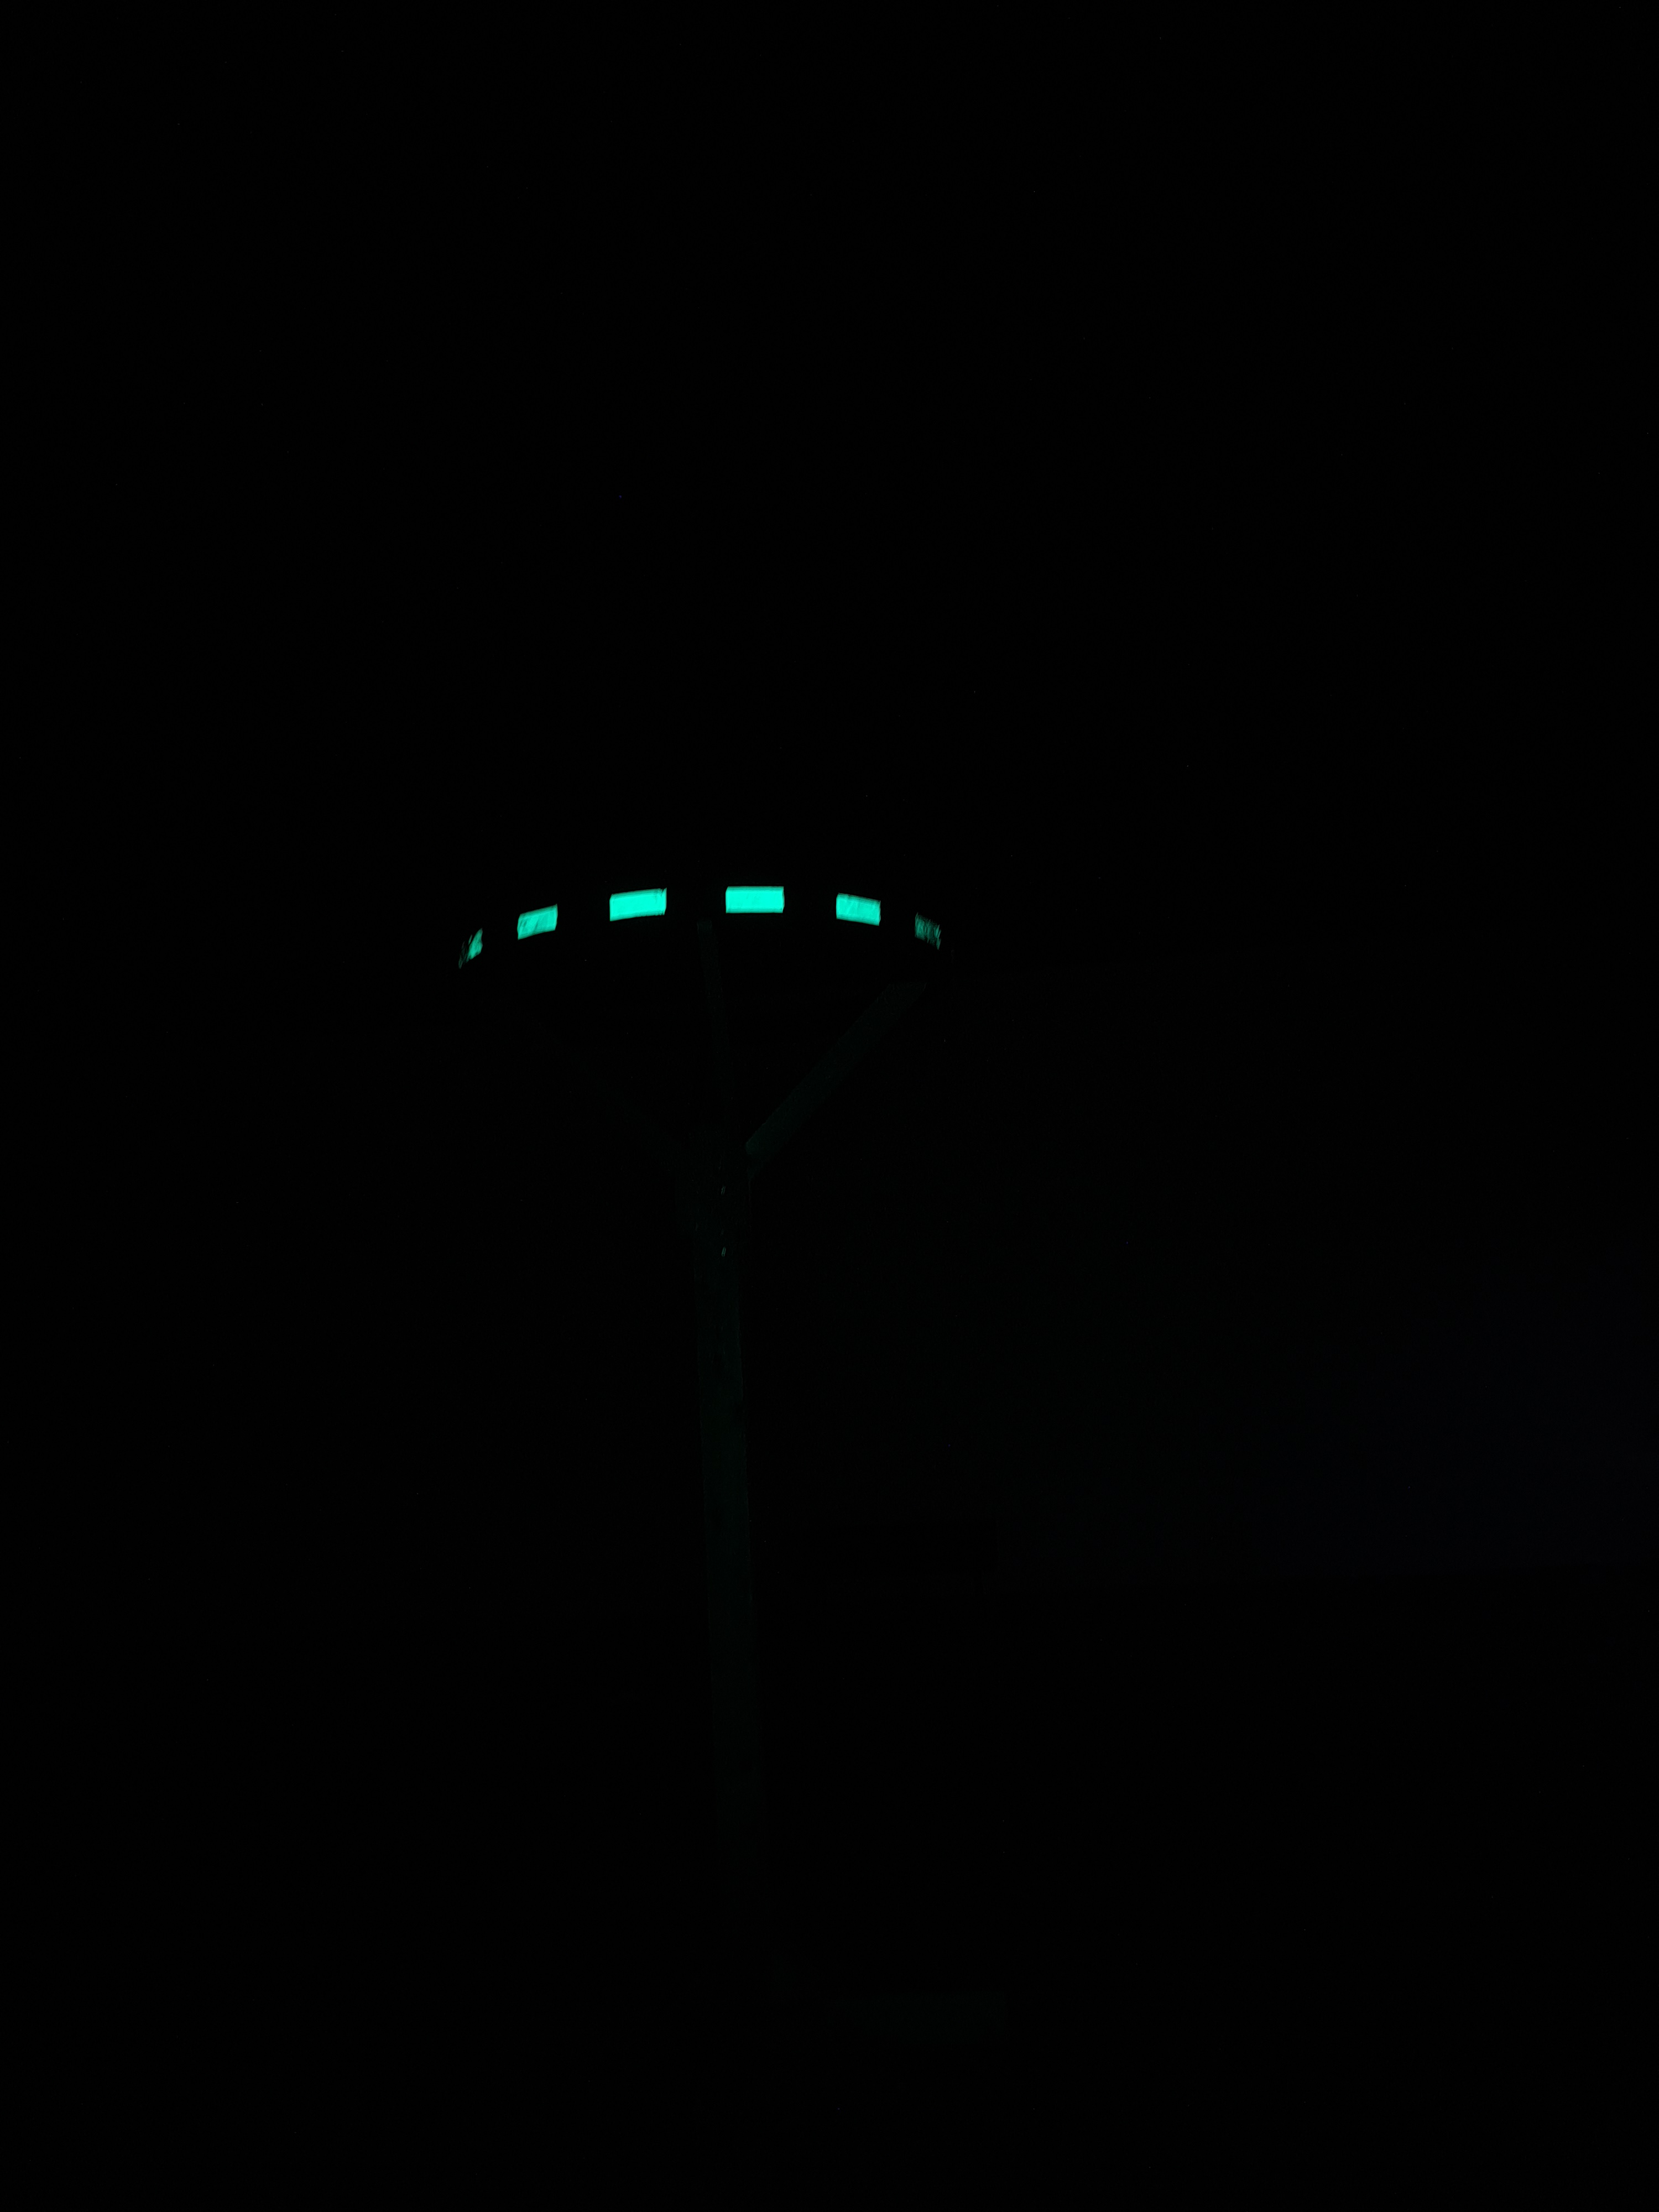hoop: (444, 873, 945, 972)
